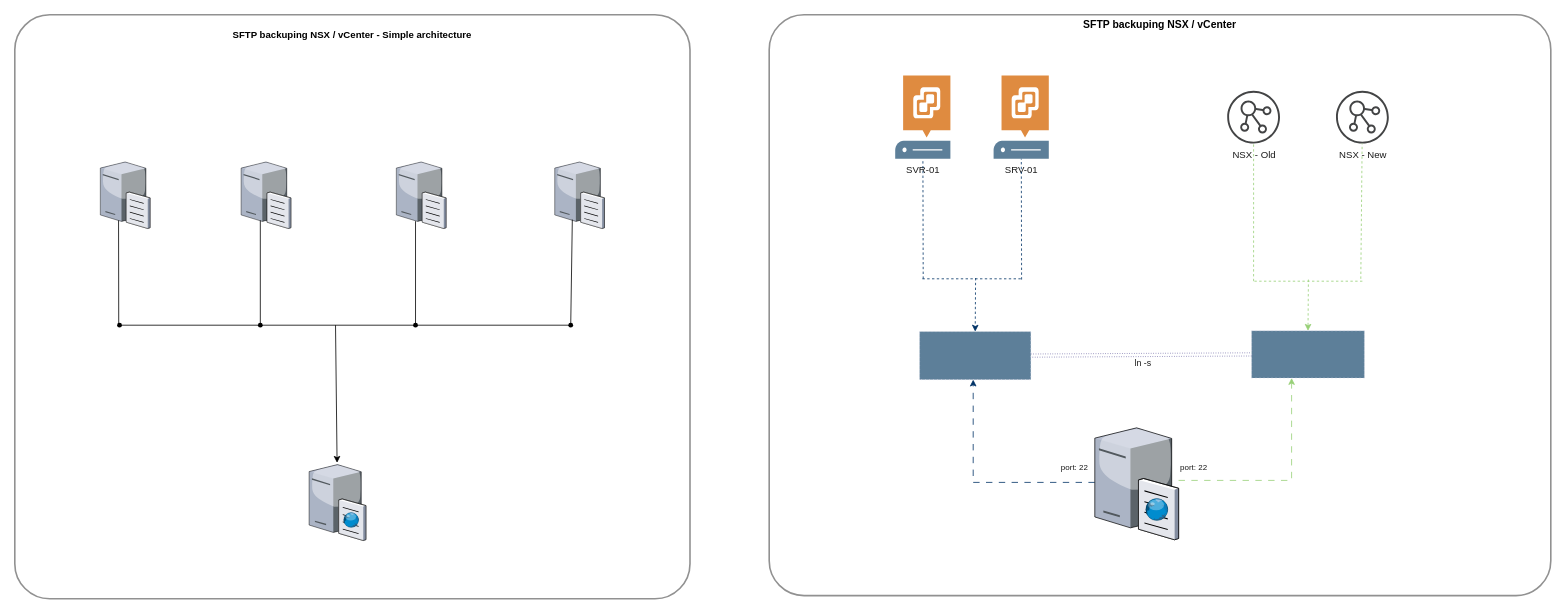
This 1565x613 diagram has some shape labels left out. The shapes that lost their labels are listed below. From the top down, each one's centre as x and y in pixels, then its label:
the point at 975,355: Path-1 /home/vmback/data
the point at 1307,354: Path-2 /backup/data
the point at 1136,482: svmngsftp01a
